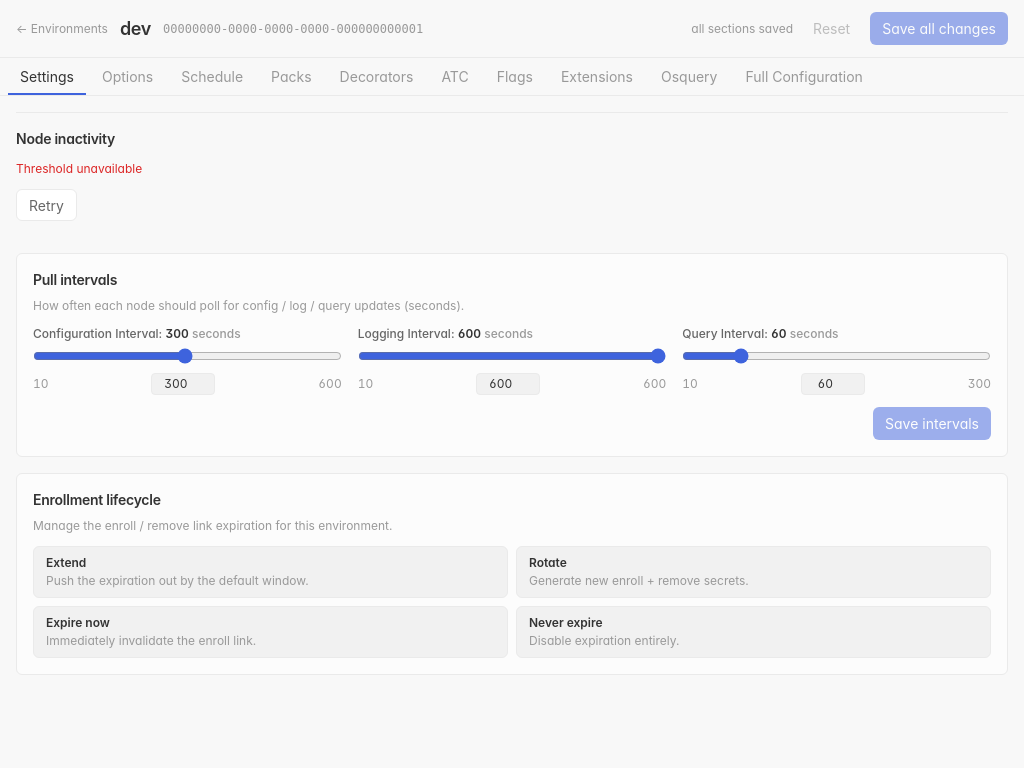
EnvConfigPage › shows fetch errors with retry and no guessed threshold
Expected: the text "Threshold unavailable" is shown, [16, 161, 142, 176]
Expected: the number field labelled "Inactive hours" is not shown
Click the button with aria-label "Retry inactive hours". click: (46, 205)
box: [16, 189, 77, 221]
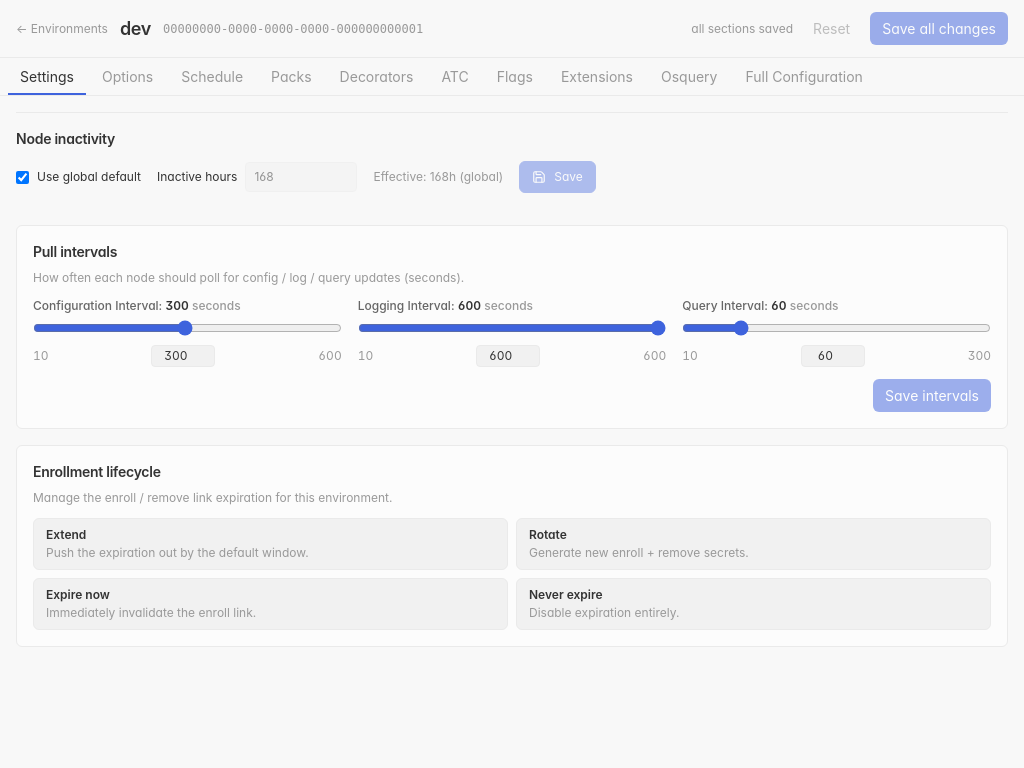
Result: the number field labelled "Inactive hours" holds "168" at [245, 162, 357, 192]
